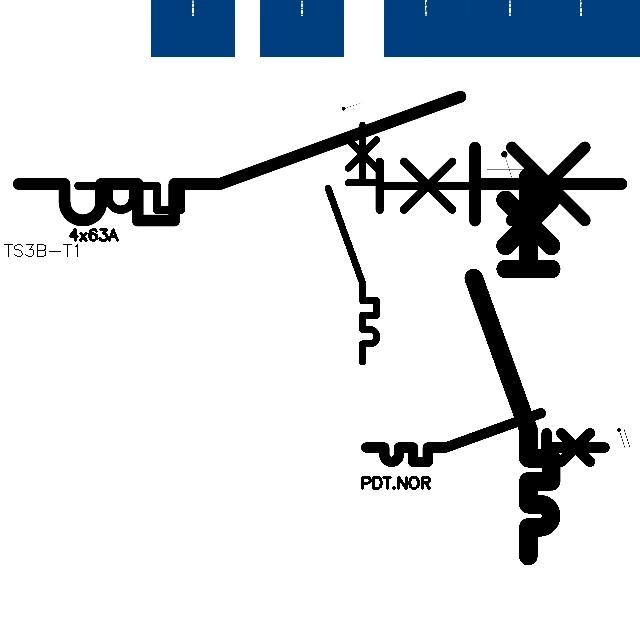interruptor_termomagnetico: (3, 81, 637, 236), (68, 118, 487, 220), (464, 167, 561, 566), (360, 407, 611, 468), (322, 119, 383, 367)
